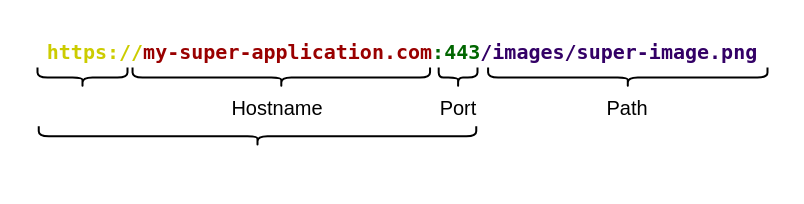
Image size: 804x204. Some labels were removed from this diagram. The shapes that lost their labels are listed below. From the top down, each one's centre as x and y in pixels, then its label:
At (x=82, y=77): "Scheme".
At (x=257, y=136): "Origin".
